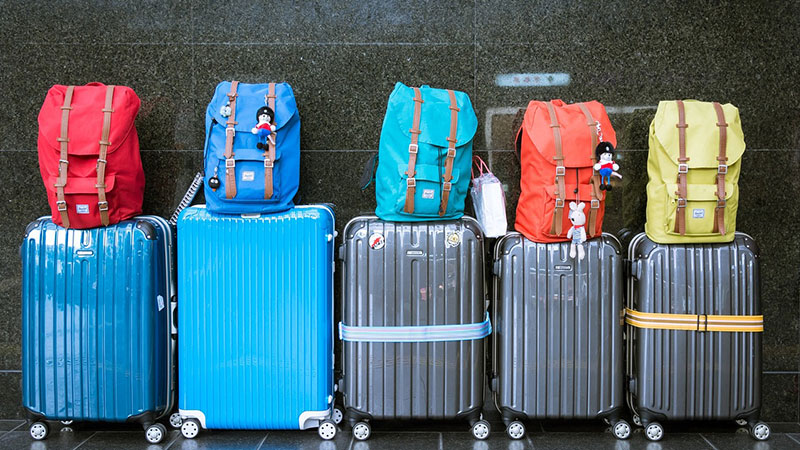backpack: (31, 76, 150, 235), (369, 79, 484, 228), (510, 95, 622, 245), (192, 77, 307, 223), (640, 93, 744, 249)
luggage: (168, 198, 341, 447), (12, 208, 180, 447), (335, 205, 494, 446), (488, 224, 634, 450), (621, 225, 765, 438)
